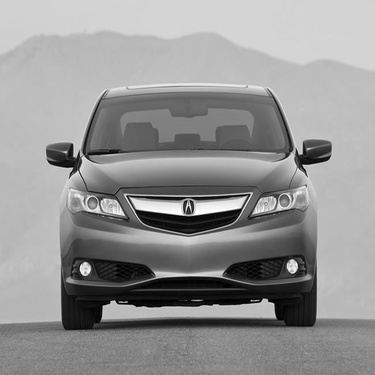car: (25, 73, 337, 337)
